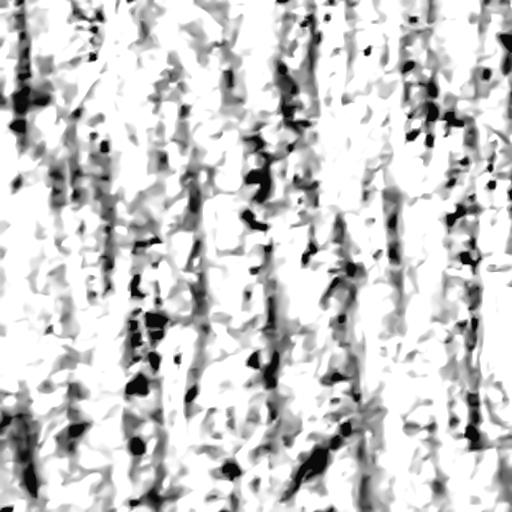egg: (298, 446, 328, 482), (241, 209, 267, 230), (146, 312, 167, 338), (246, 169, 269, 189), (126, 374, 147, 393), (447, 204, 465, 225), (24, 466, 36, 496), (130, 274, 144, 297), (498, 32, 511, 52), (443, 111, 461, 125), (130, 437, 144, 454), (247, 351, 259, 368), (148, 352, 159, 370), (464, 426, 478, 440), (9, 119, 24, 131), (427, 103, 437, 120), (186, 385, 196, 402), (406, 129, 419, 140), (402, 61, 413, 73)
